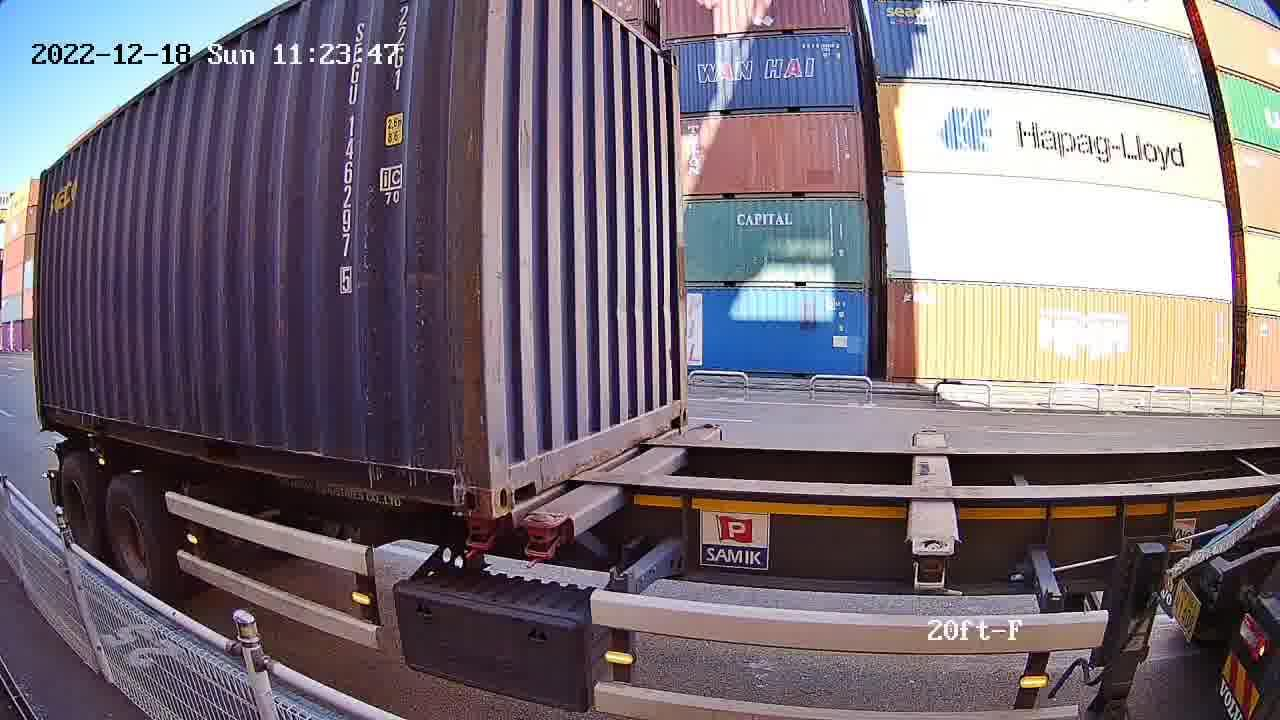Chassis: (525, 427, 724, 539)
Cone: (523, 515, 569, 565), (463, 514, 497, 554)
Hole_L: (491, 436, 543, 518)
Hole_R: (427, 440, 492, 517), (664, 388, 689, 431)
Tire: (105, 480, 169, 607), (59, 460, 101, 557)
